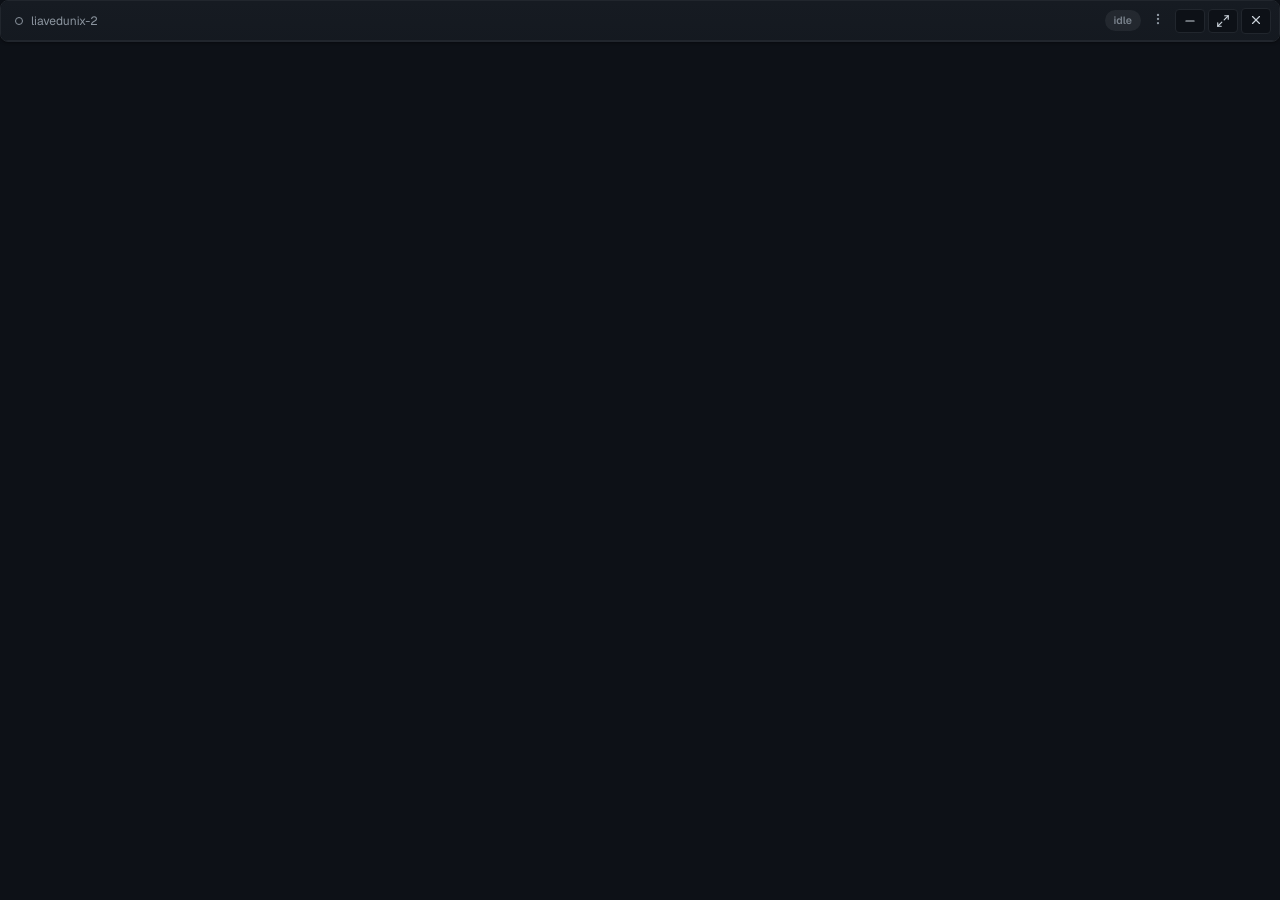
Test: a refusal keeps the tile and says why, and Close puts the button back
The width and height of the screenshot is (1280, 900).
Click the button with class "gs-kill-btn" at (1256, 20), box [1241,8,1271,34]
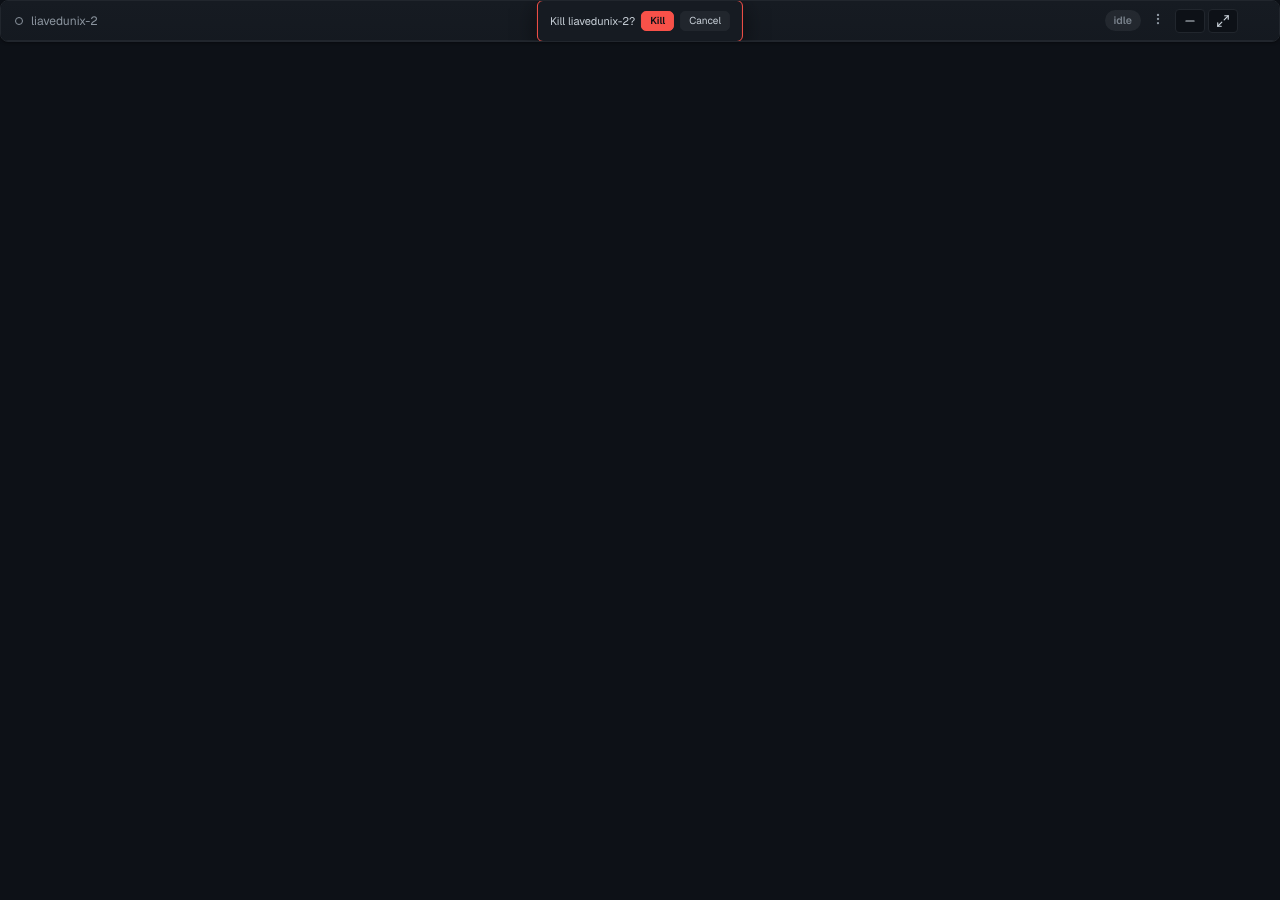
Click the button with class "btn-confirm" at (658, 21), box [641,11,674,31]
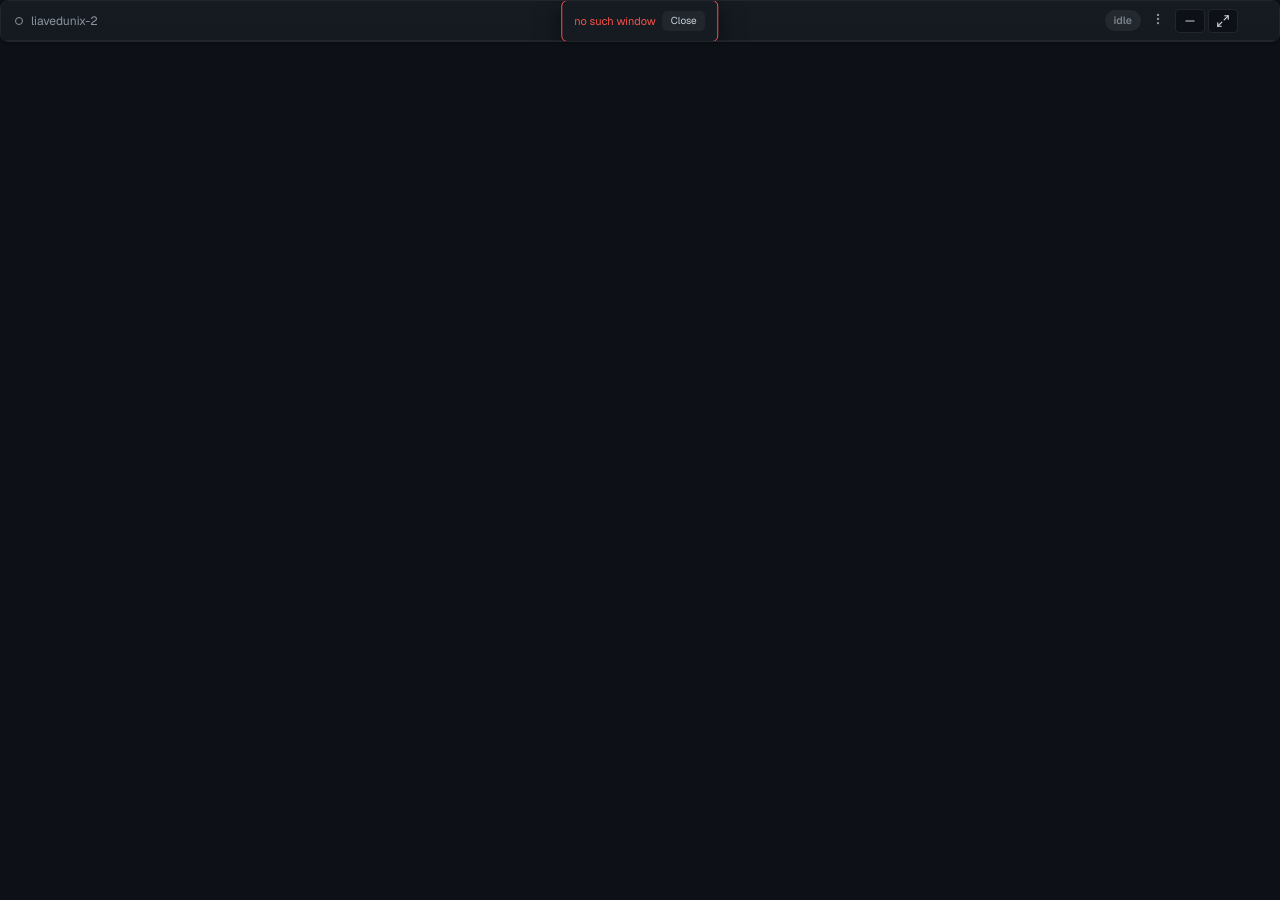
Expected: the text "no such window" is shown, [574,13,656,29]
Click the button "Close" at (684, 21), box [662,11,706,31]
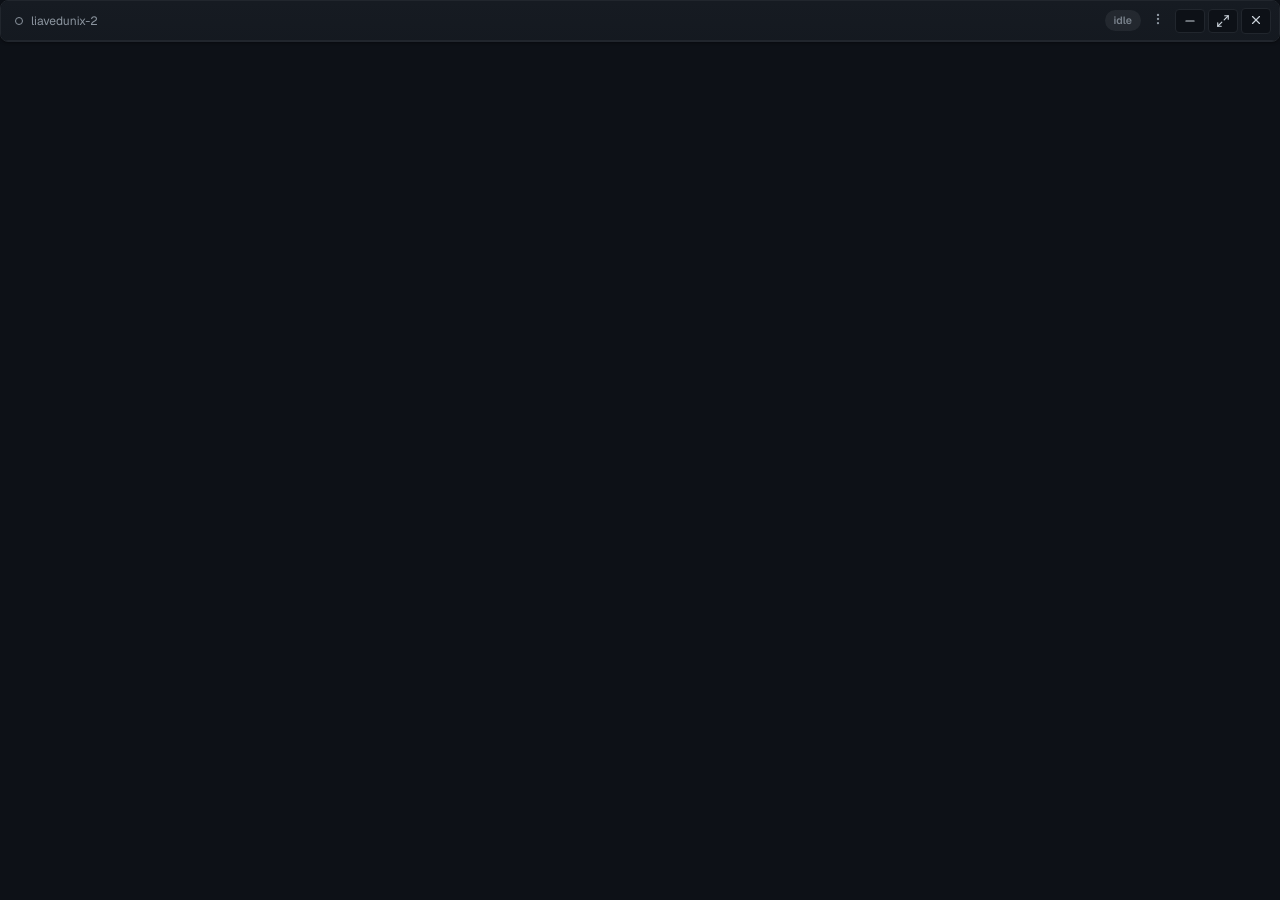
Expected: the dialog is gone
